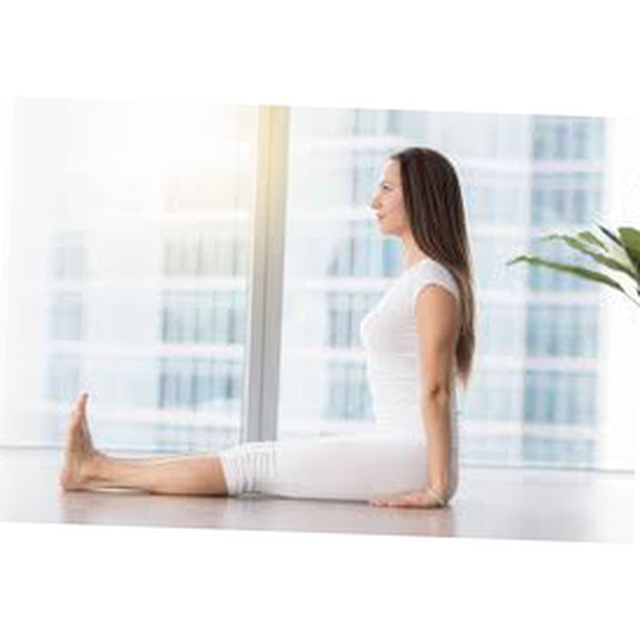Staff_Pose: (59, 147, 478, 512)
